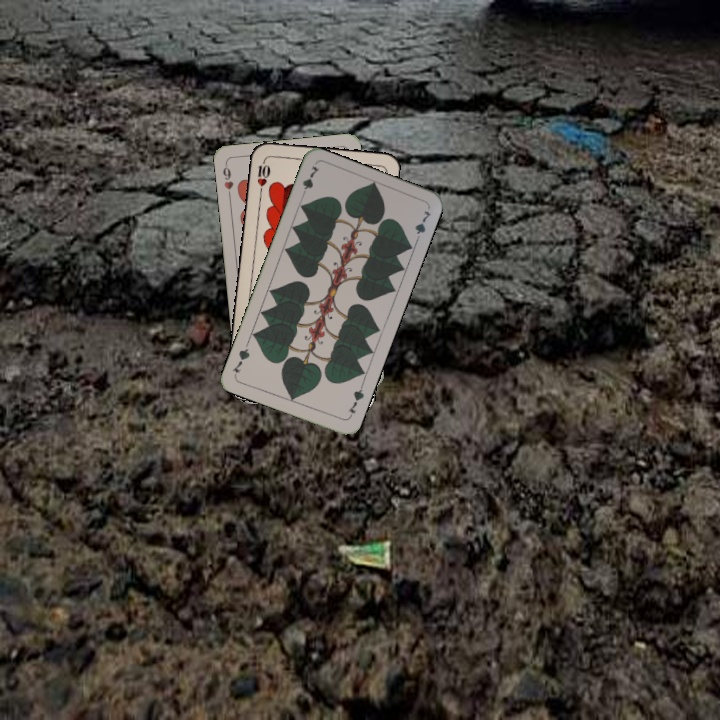G7: (297, 162, 322, 201), (344, 381, 367, 420)
H10: (253, 155, 273, 196)
H9: (219, 160, 236, 201)
